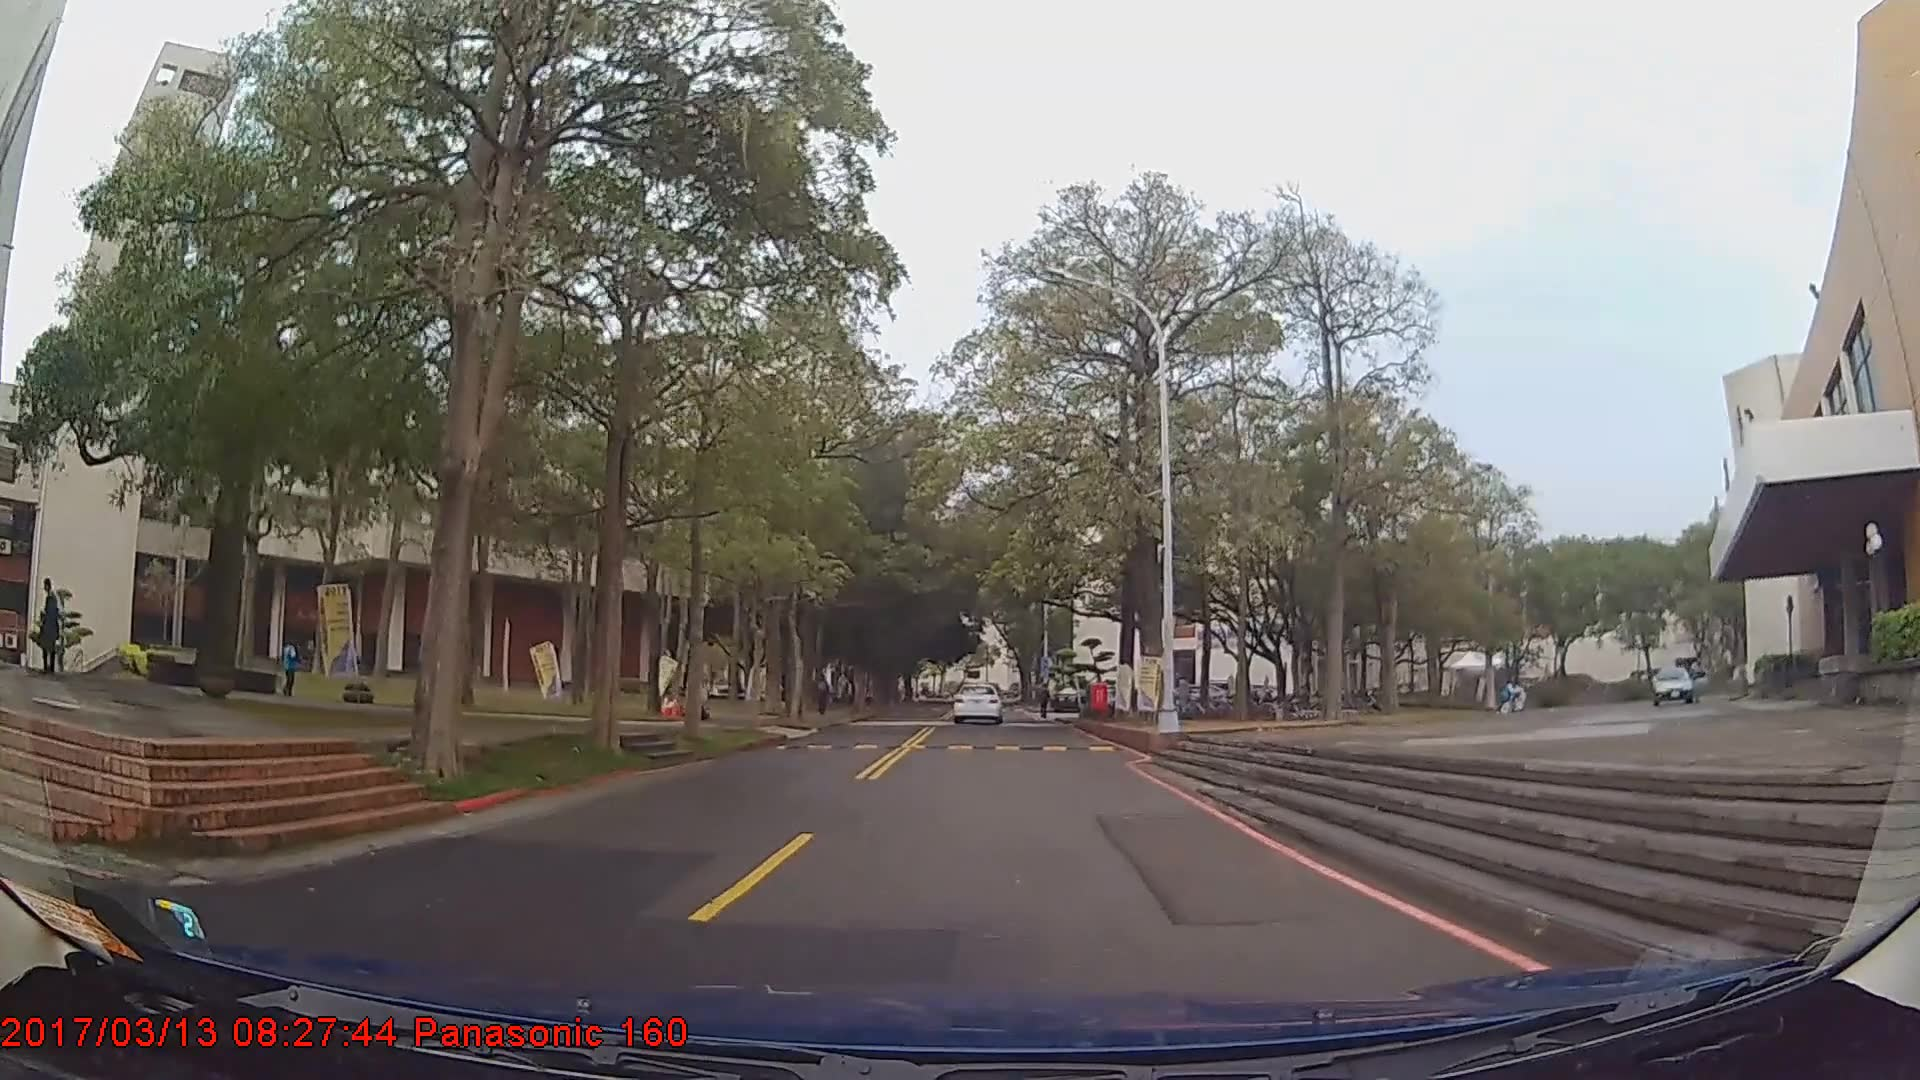pedestrian: (36, 578, 62, 675), (283, 636, 304, 696)
vehicle: (1648, 663, 1711, 707), (951, 682, 1003, 725)
